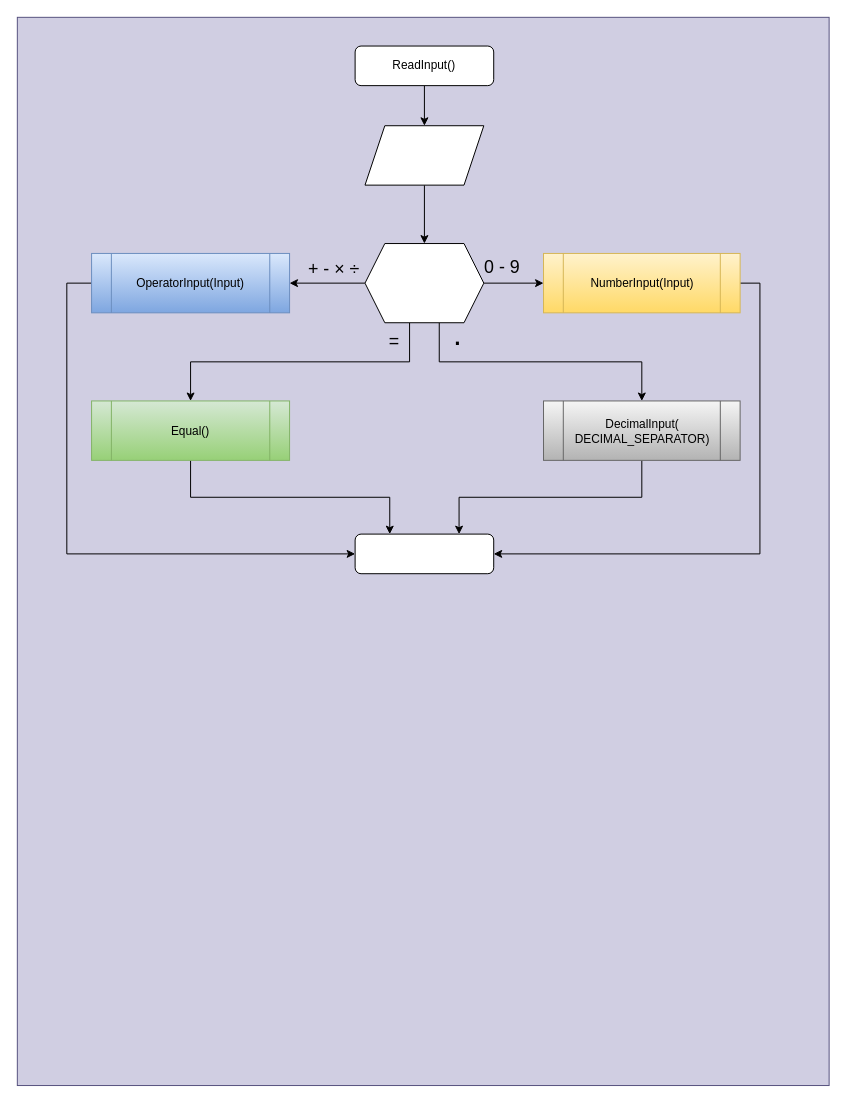
Image size: 846x1103. Some labels were removed from this diagram. Each missing label, with the centre of its shape:
Input: the point at 424,155
Return: the point at 424,553
Switch (Input): the point at 424,283
